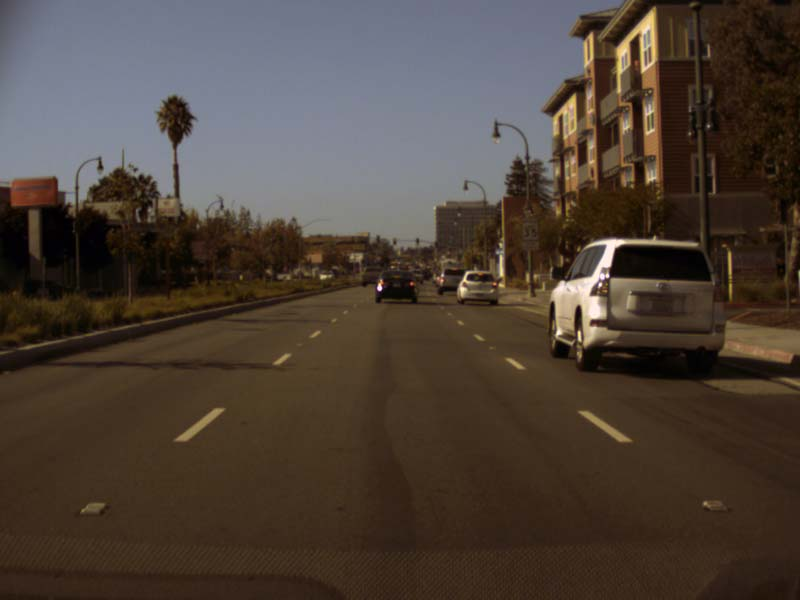Red: (392, 238, 395, 244)
